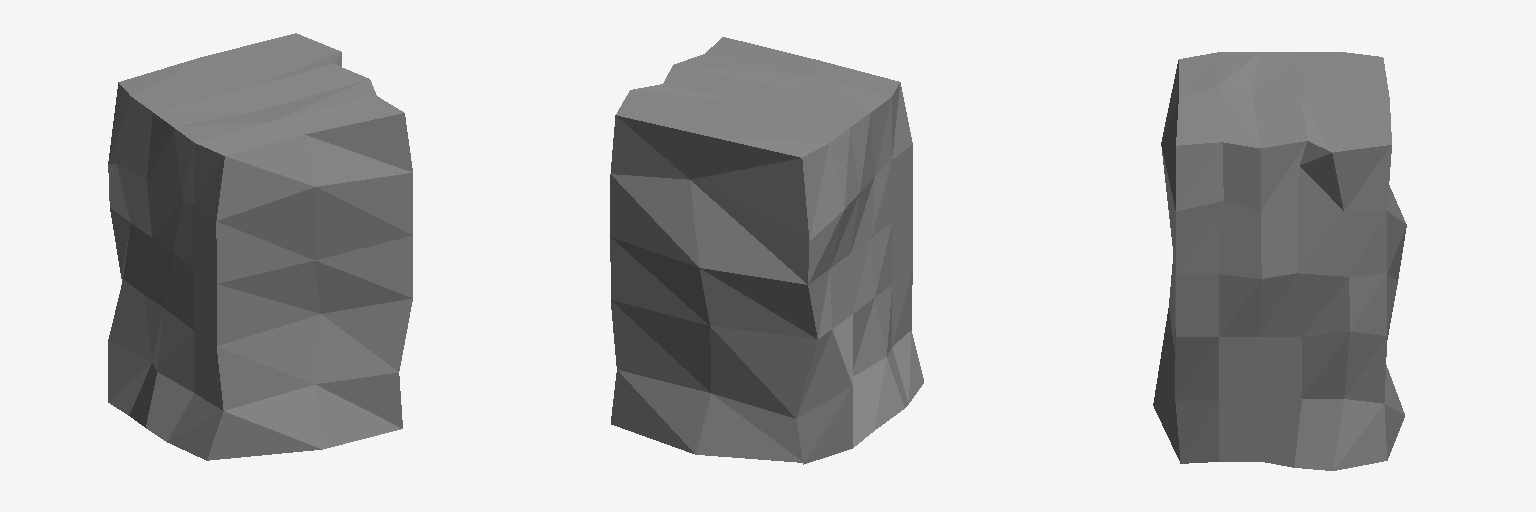
The model's file is skylantern.obj.
The picture shows the model from 3 angles: view 1: azimuth 30°, elevation 25°; view 2: azimuth 150°, elevation 25°; view 3: azimuth 270°, elevation 25°; orthographic projection.
Visible parts, largest first — view 1: Box004; view 2: Box004; view 3: Box004.
Boxes of the visible parts, box(x1,y1,x2,y2) form: Box004: box(108, 33, 412, 460); Box004: box(610, 37, 923, 464); Box004: box(1153, 52, 1406, 470).
Size of the model in its own units: 17.75 by 22 by 15.77.